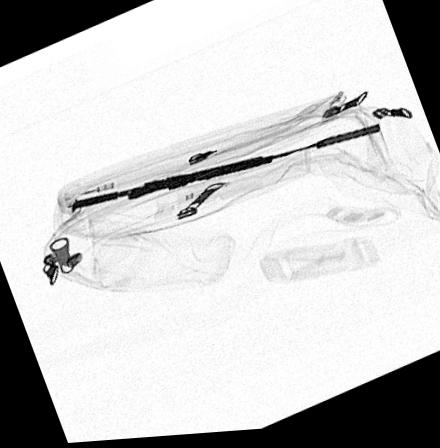Gun: (68, 125, 389, 216)
